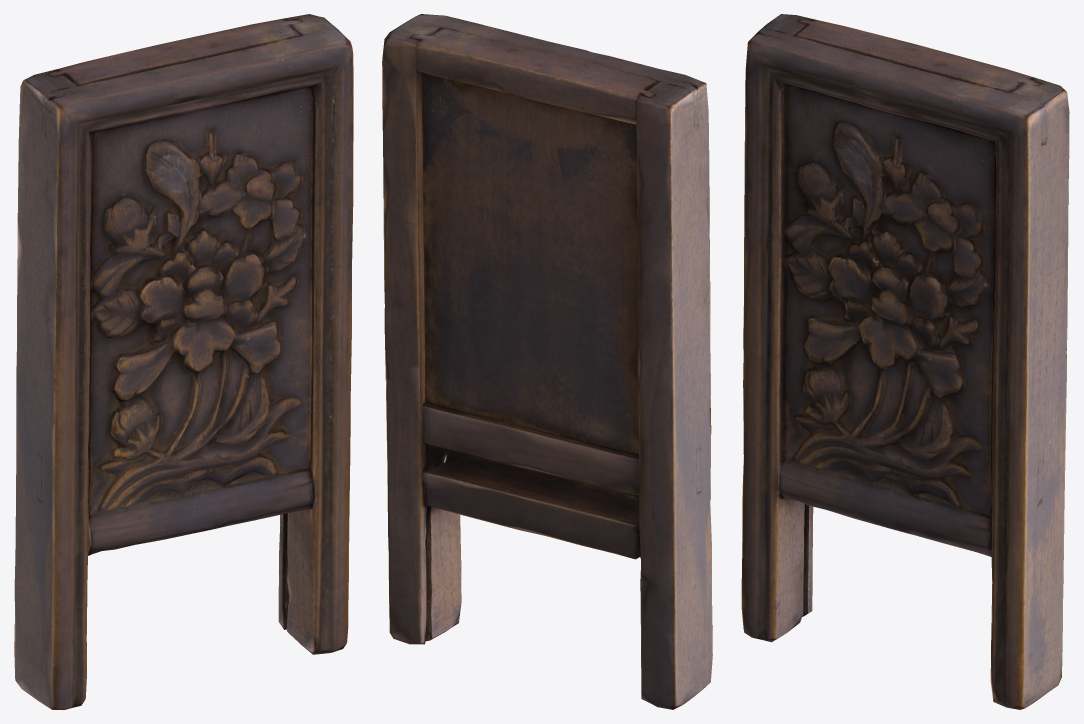
File: SM_Standing_Mirror.fbx
3 renders of one model, left to right at view 1: azimuth 30°, elevation 25°; view 2: azimuth 150°, elevation 25°; view 3: azimuth 330°, elevation 25°, orthographic.
Visible parts, largest first — view 1: KCDF_2022_prop_Standing_Mirror_Mesh; view 2: KCDF_2022_prop_Standing_Mirror_Mesh; view 3: KCDF_2022_prop_Standing_Mirror_Mesh.
Part boxes in pixels (x1=…): KCDF_2022_prop_Standing_Mirror_Mesh: x1=14, y1=14, x2=353, y2=709; KCDF_2022_prop_Standing_Mirror_Mesh: x1=382, y1=14, x2=712, y2=709; KCDF_2022_prop_Standing_Mirror_Mesh: x1=741, y1=14, x2=1069, y2=709.
Size of the model in its own units: 26.77 by 52.24 by 7.07.
1 material, 1 textured.
